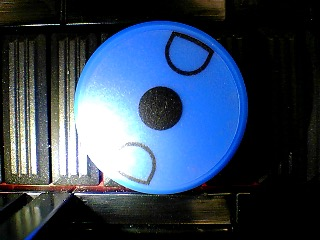BOHOMIPO2: (72, 21, 248, 196)
